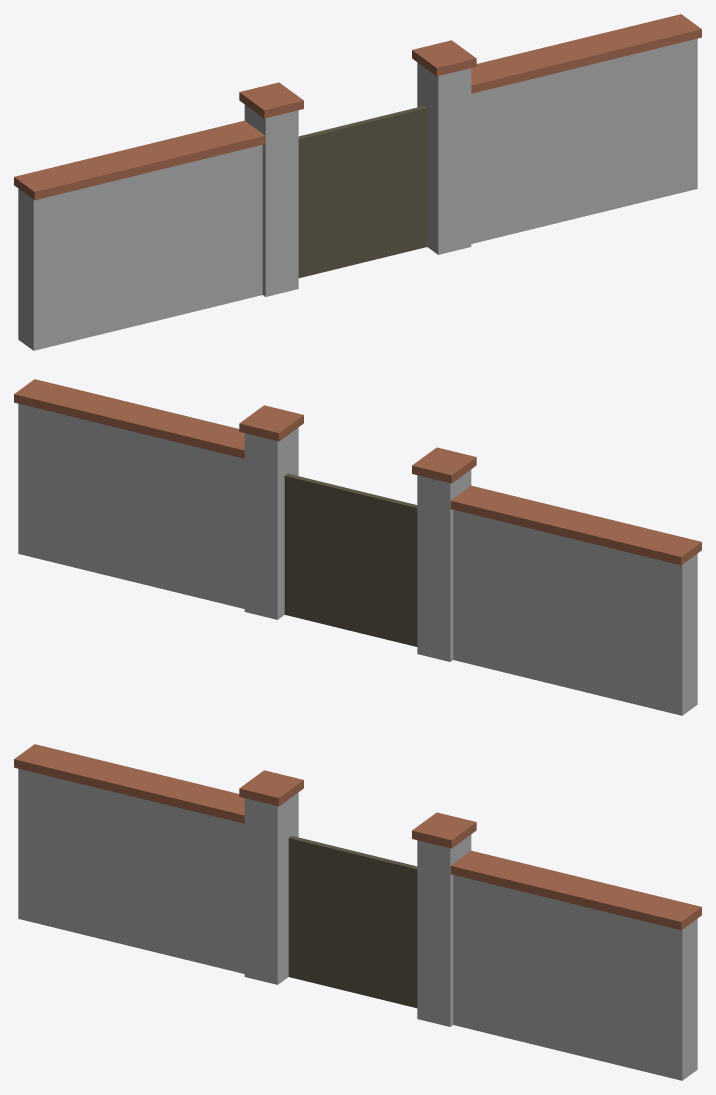
File: SM_Tapia_v2_Porton_LOD1.fbx
3 renders of one model, top to bottom at view 1: azimuth 30°, elevation 25°; view 2: azimuth 150°, elevation 25°; view 3: azimuth 330°, elevation 25°, orthographic.
Parts seen in each view (by area): view 1: SM_bloques.viveres_nules_v7_LOD1; view 2: SM_bloques.viveres_nules_v7_LOD1; view 3: SM_bloques.viveres_nules_v7_LOD1.
Part boxes in pixels (left/top/right/bottom): SM_bloques.viveres_nules_v7_LOD1: left=14, top=14, right=701, bottom=350; SM_bloques.viveres_nules_v7_LOD1: left=14, top=379, right=701, bottom=715; SM_bloques.viveres_nules_v7_LOD1: left=14, top=744, right=701, bottom=1080.
Bounding box in the file's own units: 10.05 × 2.72 × 0.65.
